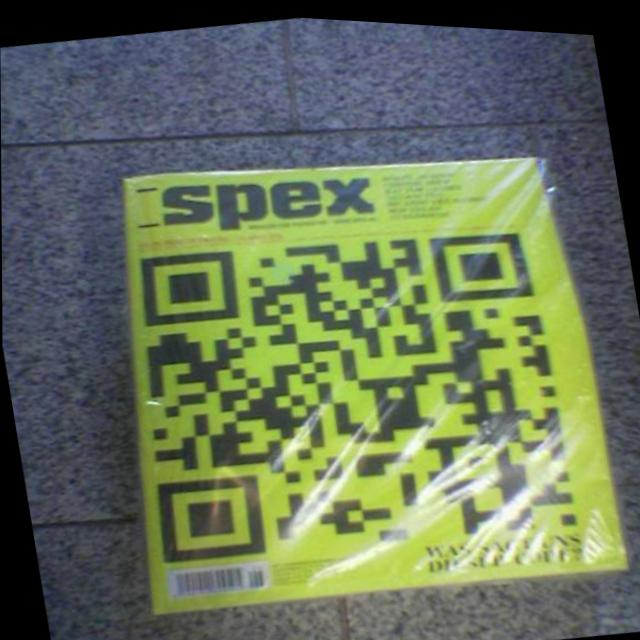qrcode: (114, 194, 577, 585)
